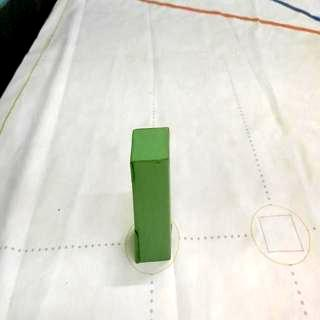greenbox: (131, 126, 175, 264)
